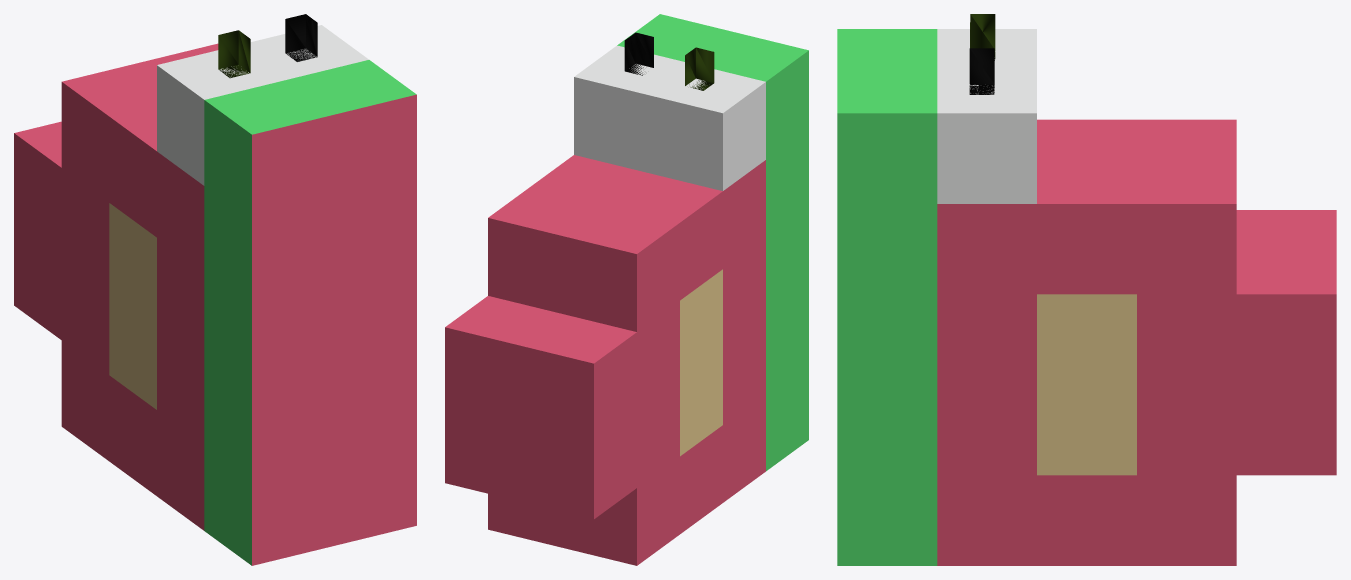
Rendered from snail.glb.
3 renders of one model, left to right at view 1: azimuth 30°, elevation 25°; view 2: azimuth 150°, elevation 25°; view 3: azimuth 270°, elevation 25°, orthographic. The views are drawn at different scales.
Parts seen in each view (by area): view 1: imagetostl_mesh2_node, imagetostl_mesh0_node, imagetostl_mesh1_node; view 2: imagetostl_mesh2_node, imagetostl_mesh0_node, imagetostl_mesh1_node; view 3: imagetostl_mesh2_node, imagetostl_mesh1_node, imagetostl_mesh0_node.
Boxes of the visible parts, <box> form: imagetostl_mesh2_node: <box>14,25,416,565</box>; imagetostl_mesh0_node: <box>218,30,250,78</box>; imagetostl_mesh1_node: <box>285,14,317,61</box>; imagetostl_mesh2_node: <box>445,14,808,565</box>; imagetostl_mesh0_node: <box>685,47,714,90</box>; imagetostl_mesh1_node: <box>624,32,653,75</box>; imagetostl_mesh2_node: <box>837,29,1336,565</box>; imagetostl_mesh1_node: <box>969,48,994,94</box>; imagetostl_mesh0_node: <box>970,14,995,60</box>.
Size of the model in its own units: 2000 by 5400 by 5000.
